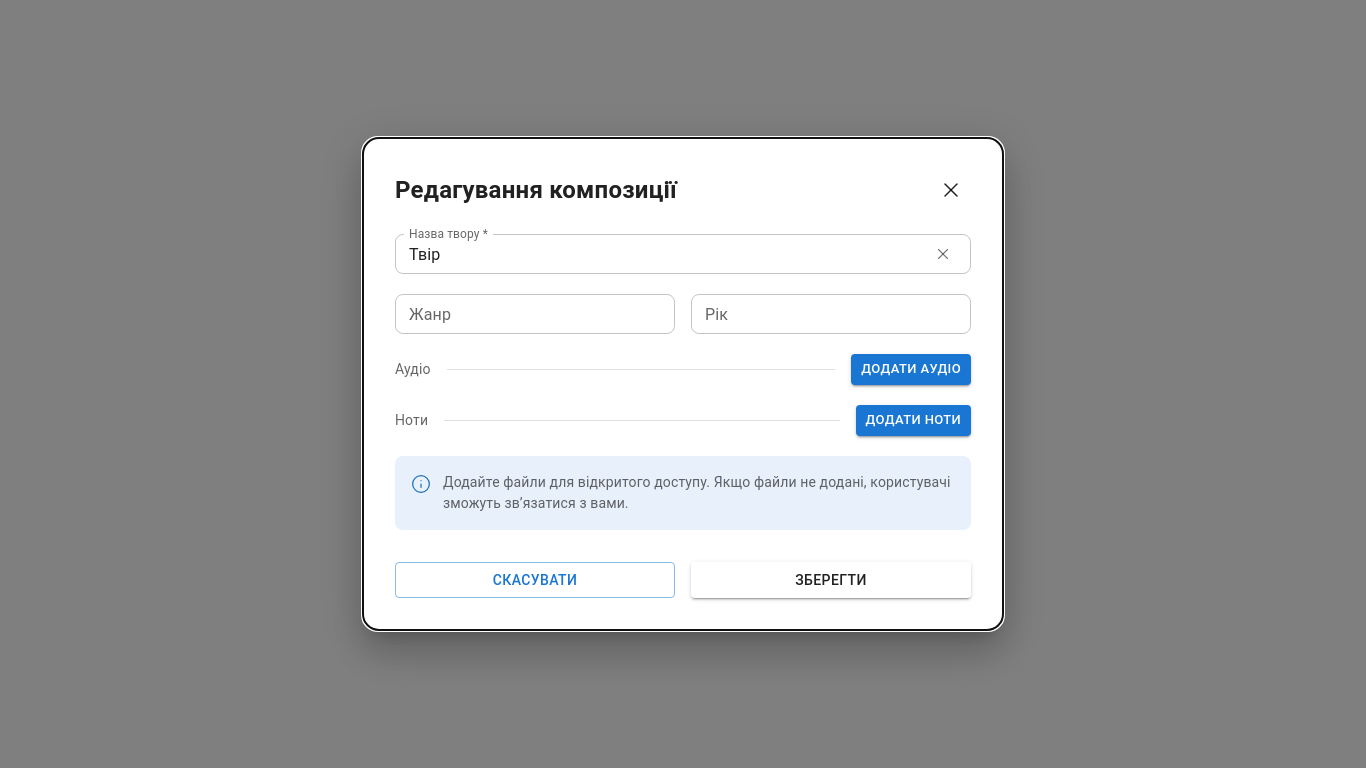
Scenario: CompositionModal › clears the title with the adornment button
Check: the field labelled "Назва твору *" holds "Твір", box x1=395 y1=234 x2=921 y2=274
Click the button named "Очистити" at (943, 254), box x1=929 y1=240 x2=957 y2=268
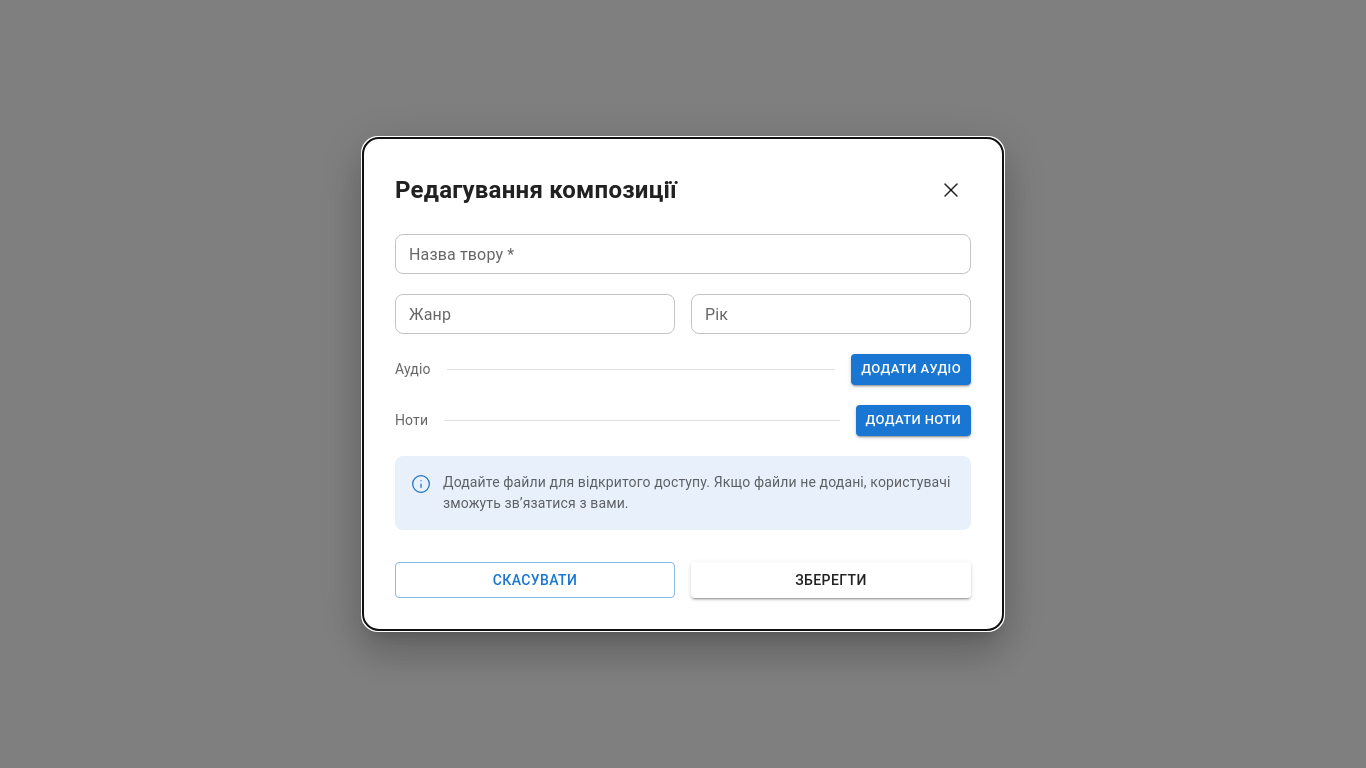
Check: the field labelled "Назва твору *" is empty, box x1=395 y1=234 x2=971 y2=274
